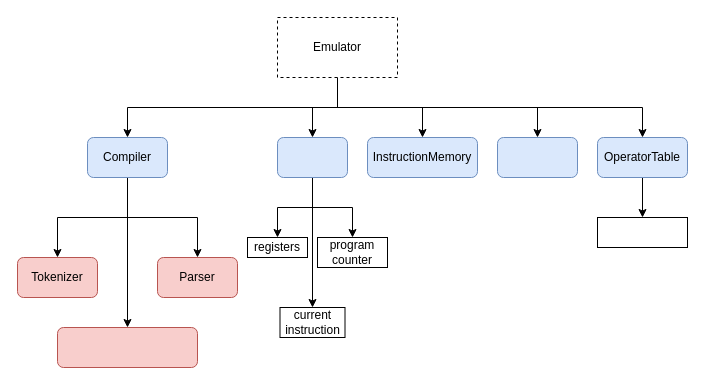
Some shapes in this 705 by 385 pixel diagram are drawn without their labels. The centre of each missing label's shape, as x and y in pixels:
"CPU" goes at (x=312, y=157).
"MachineCodeGenerator" goes at (x=127, y=347).
"Memory" goes at (x=537, y=157).
"Operators" goes at (x=642, y=232).
